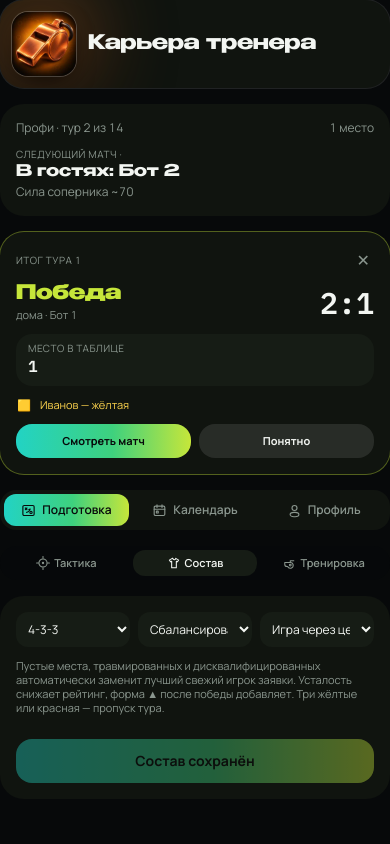
CareerPage › shows the next opponent and the tabs for an active season
The width and height of the screenshot is (390, 844).
Expected: the text "В гостях: Бот 2" is shown, [16,164,180,180]
Expected: the text "Профи · тур 2 из 14" is shown, [16,120,123,136]
Click the tab "Календарь" at (195, 510), box [133,494,257,526]
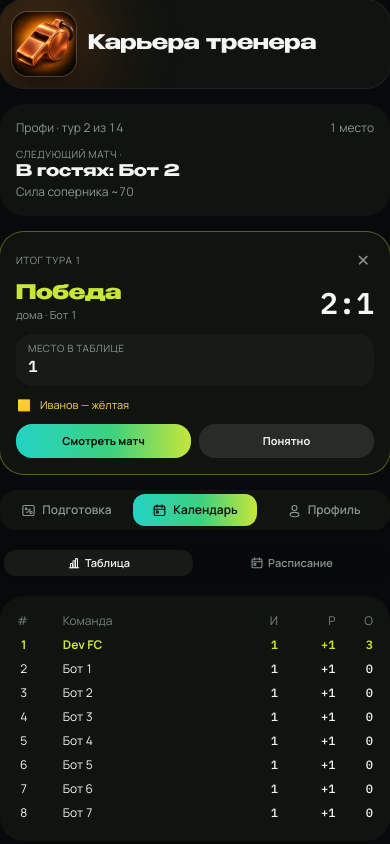
Expected: the text "Бот 2" is shown, [62,681,243,705]
Click the tab "Профиль" at (324, 510), box [261,494,386,526]
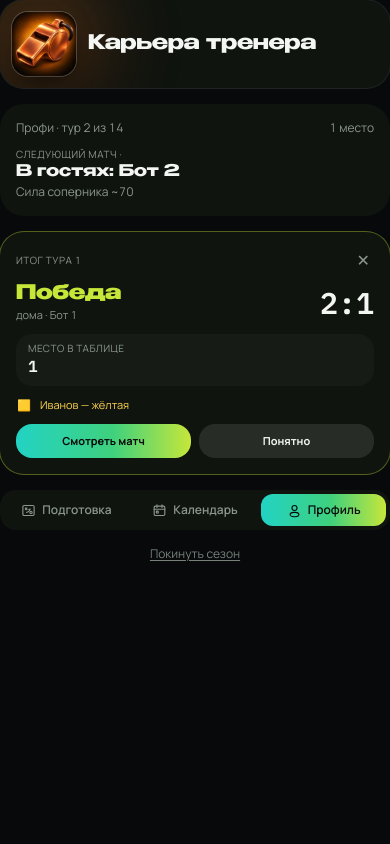
Expected: the button "Покинуть сезон" is shown, [150,546,240,562]
